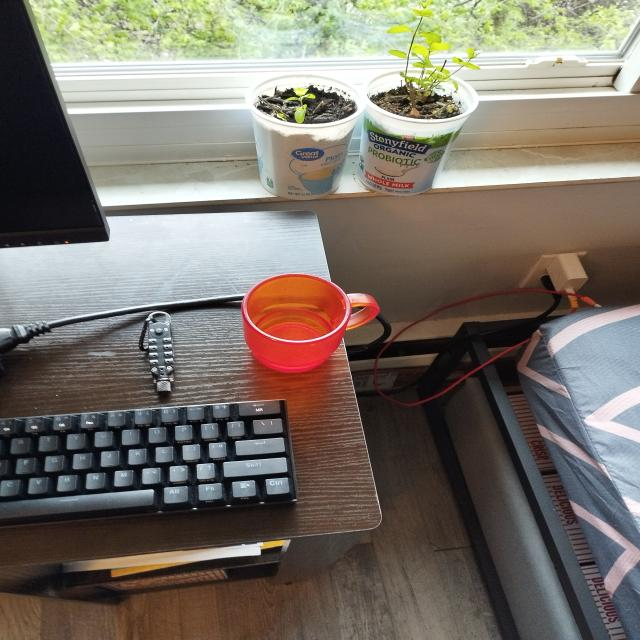Cup: (224, 254, 408, 380)
